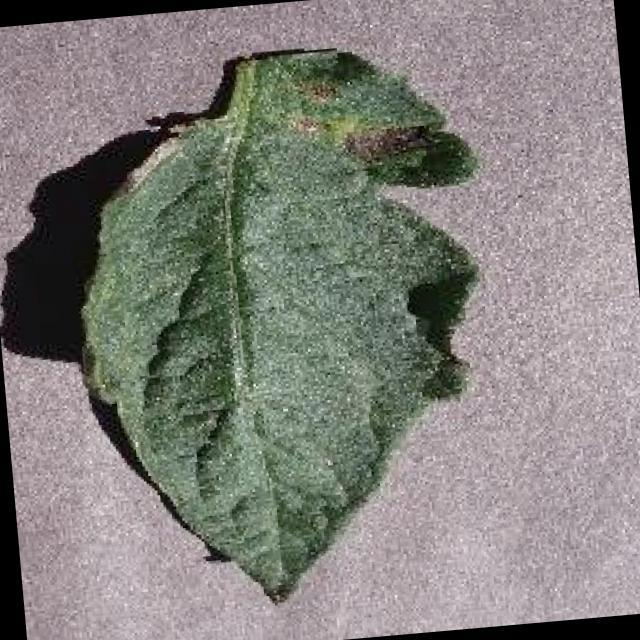Tomato Early blight leaf: (64, 37, 509, 622)
